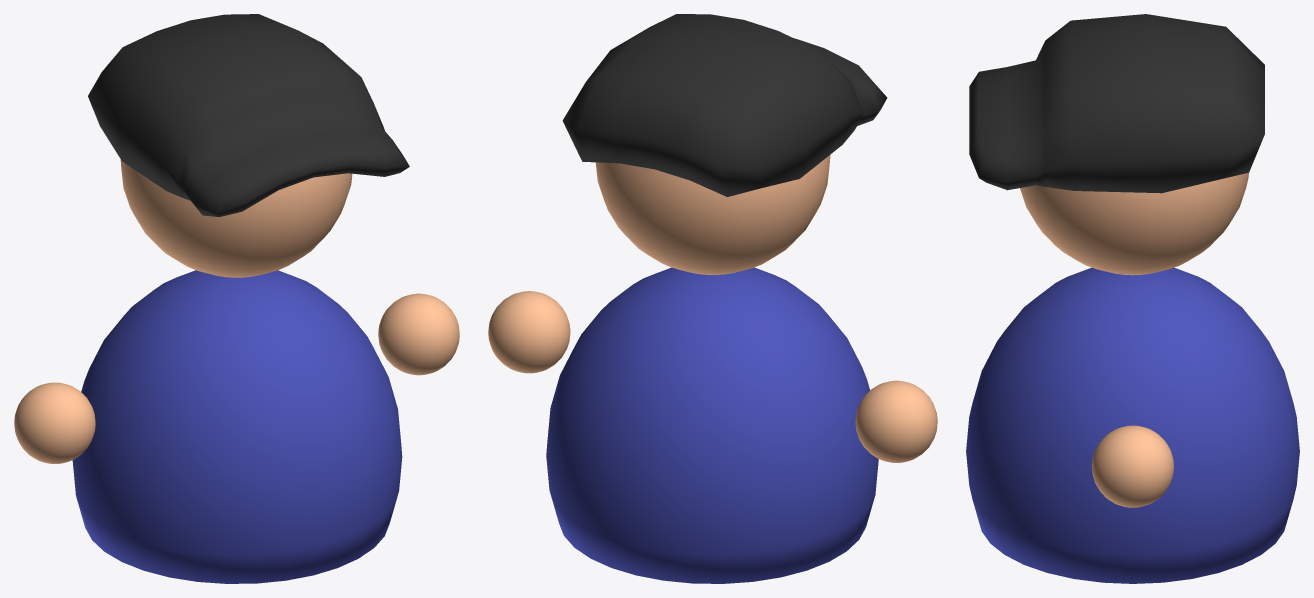
The model's file is Player.fbx.
The picture shows the model from 3 angles, left to right: view 1: azimuth 30°, elevation 25°; view 2: azimuth 150°, elevation 25°; view 3: azimuth 270°, elevation 25°; orthographic projection.
Parts seen in each view (by area): view 1: torso, hat, head, Left Hand, Right Hand; view 2: torso, hat, head, Left Hand, Right Hand; view 3: torso, hat, head, Left Hand.
Part boxes in pixels (<box>): torso: <box>72,270,402,583</box>; hat: <box>88,14,409,216</box>; head: <box>120,159,352,277</box>; Left Hand: <box>378,293,459,375</box>; Right Hand: <box>14,382,95,463</box>; torso: <box>546,267,878,583</box>; hat: <box>562,14,887,196</box>; head: <box>595,155,830,274</box>; Left Hand: <box>488,291,570,373</box>; Right Hand: <box>855,380,937,462</box>; torso: <box>966,267,1299,583</box>; hat: <box>969,14,1264,193</box>; head: <box>1020,172,1248,275</box>; Left Hand: <box>1091,425,1174,507</box>.
Size of the model in its own units: 430 by 452 by 284.
